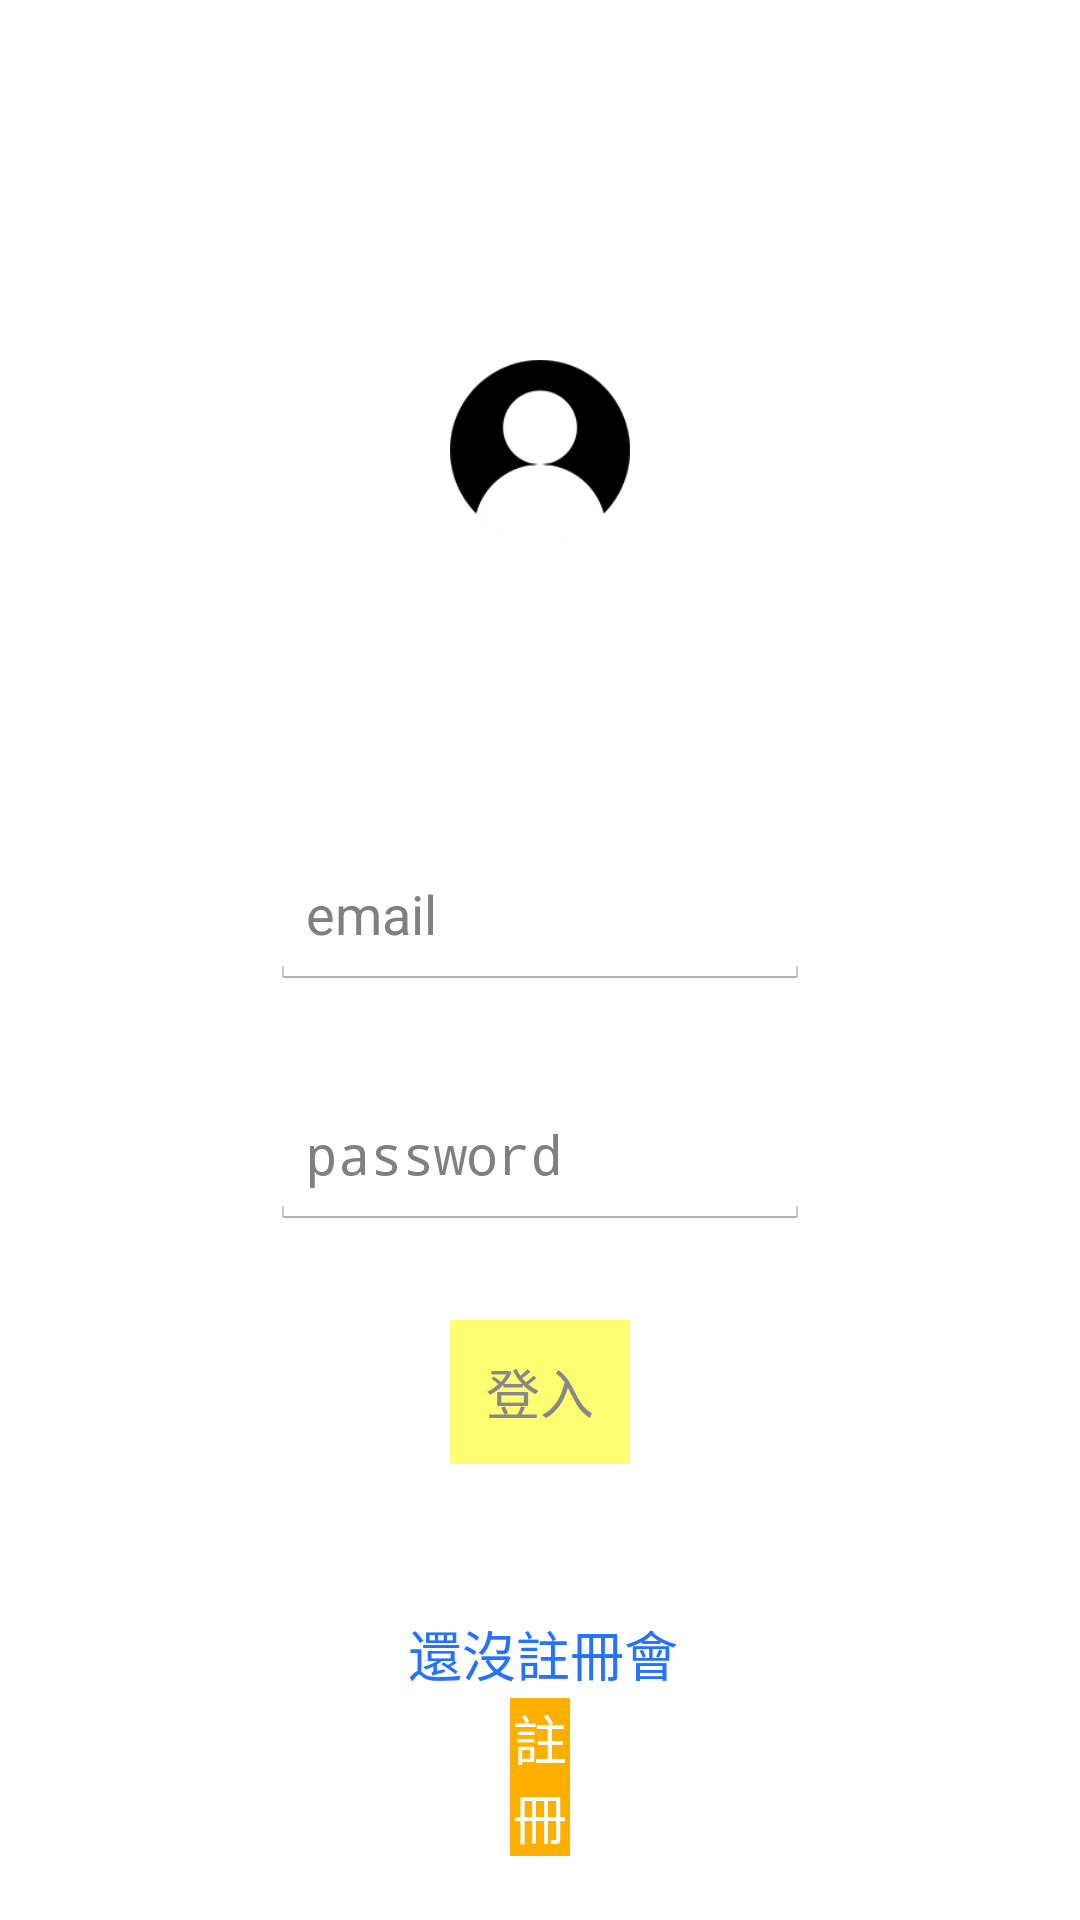

Icon bounding boxes for this 1080*1920 phone screenshot, format (x1, y1, x2, y2):
user: (450, 360, 630, 514)
